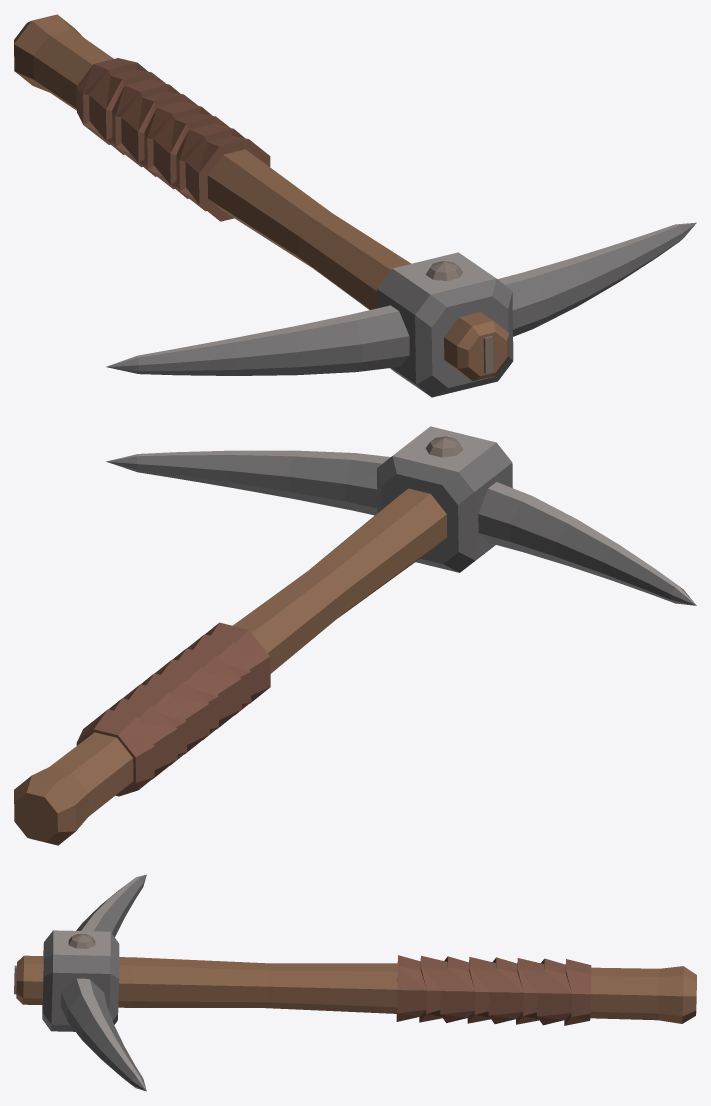
The model's file is mining-pickaxe-90bdf6.glb.
3 renders of one model, top to bottom at view 1: azimuth 30°, elevation 25°; view 2: azimuth 150°, elevation 25°; view 3: azimuth 270°, elevation 25°, orthographic. The views are drawn at different scales.
Parts seen in each view (by area): view 1: pickaxe-haft, pickaxe-metal; view 2: pickaxe-haft, pickaxe-metal; view 3: pickaxe-haft, pickaxe-metal.
Boxes of the visible parts, x1=… form: pickaxe-haft: x1=14, y1=14, x2=509, y2=381; pickaxe-metal: x1=106, y1=222, x2=696, y2=397; pickaxe-haft: x1=14, y1=488, x2=447, y2=845; pickaxe-metal: x1=106, y1=426, x2=696, y2=605; pickaxe-haft: x1=16, y1=955, x2=696, y2=1025; pickaxe-metal: x1=14, y1=874, x2=146, y2=1091.
Bounding box in the file's own units: 0.68 × 0.137 × 0.9038.
